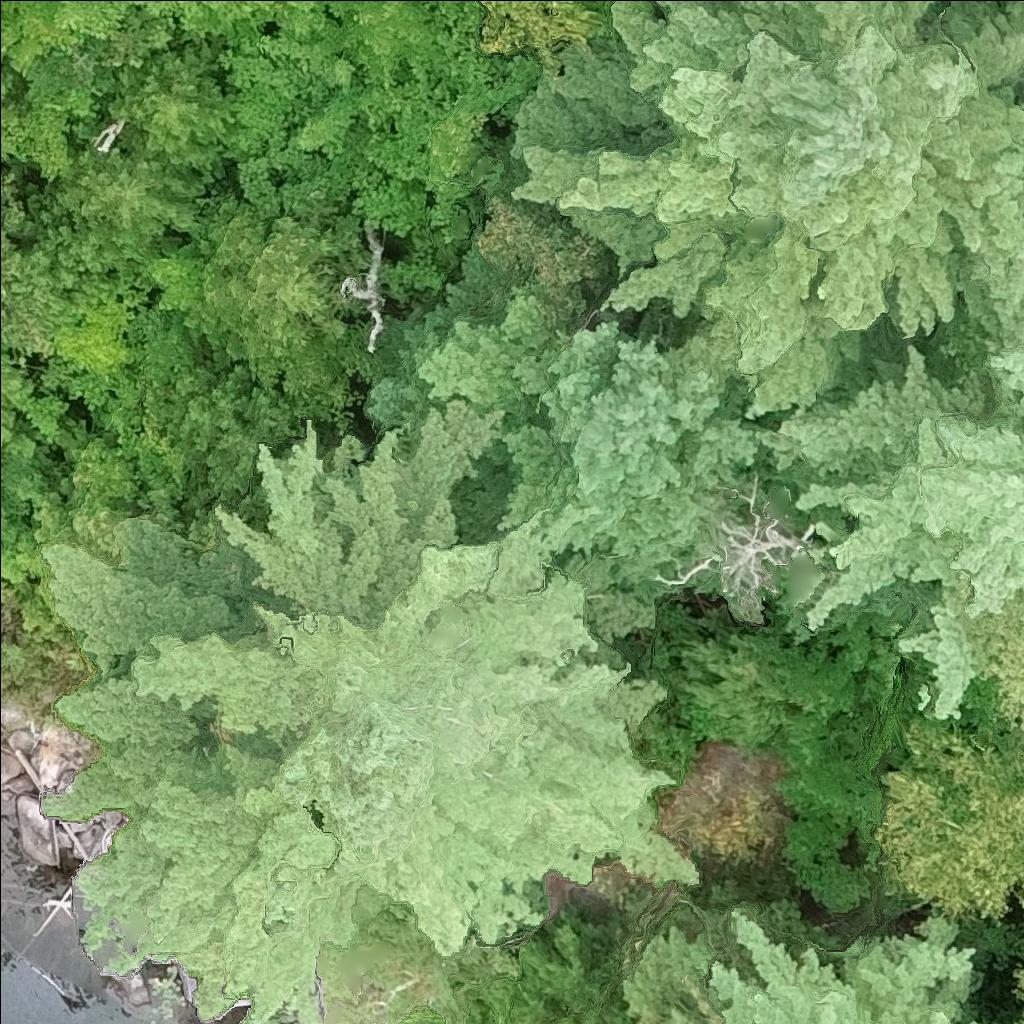crown: (124, 402, 697, 953), (506, 0, 1023, 412), (46, 520, 388, 1023), (368, 250, 760, 636), (768, 311, 1023, 713), (614, 897, 975, 1023), (875, 680, 1023, 918), (359, 45, 540, 225), (16, 144, 216, 288), (201, 215, 359, 386), (216, 26, 365, 161), (57, 144, 216, 269), (685, 476, 820, 620), (108, 41, 236, 178), (319, 0, 482, 99), (1, 250, 153, 339), (476, 0, 640, 69), (960, 588, 1023, 727), (164, 363, 257, 451), (187, 0, 334, 51), (51, 294, 135, 378), (516, 973, 638, 1023), (340, 224, 385, 354), (203, 424, 272, 498), (350, 175, 435, 235), (0, 451, 39, 539), (0, 366, 35, 457), (0, 106, 16, 131), (0, 74, 15, 98), (1017, 964, 1023, 995), (1018, 1000, 1023, 1023)
